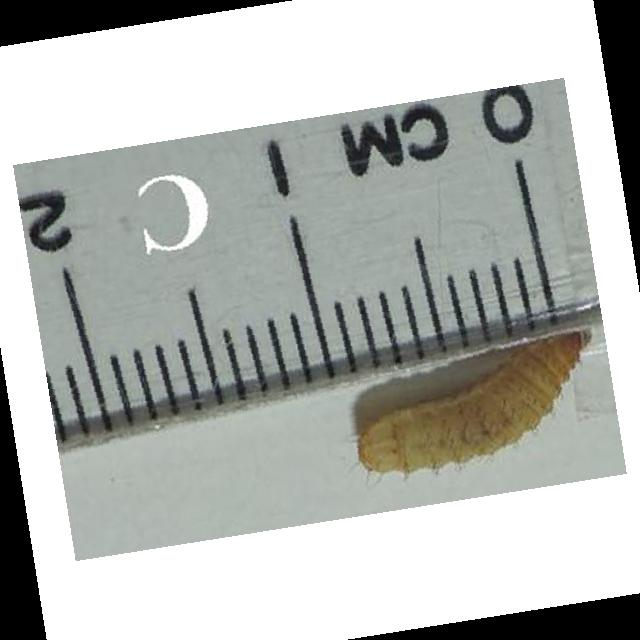Maggot: (361, 329, 591, 475)
